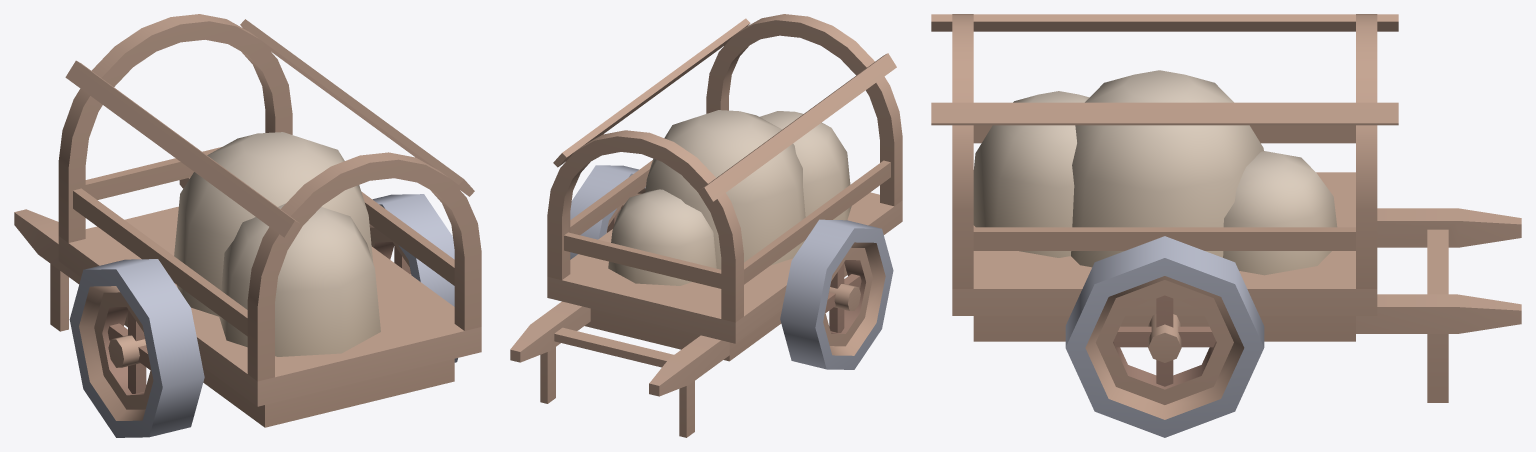
The model's file is cart-high.glb.
The picture shows the model from 3 angles, left to right: view 1: azimuth 30°, elevation 25°; view 2: azimuth 150°, elevation 25°; view 3: azimuth 270°, elevation 25°; orthographic projection. The views are drawn at different scales.
Parts seen in each view (by area): view 1: cart-high; view 2: cart-high; view 3: cart-high.
Part boxes in pixels (x1,y1,x2,y2): cart-high: (14,14,481,437); cart-high: (510,14,902,437); cart-high: (931,14,1521,437).
Size of the model in its own units: 0.893 by 0.8605 by 1.39.
